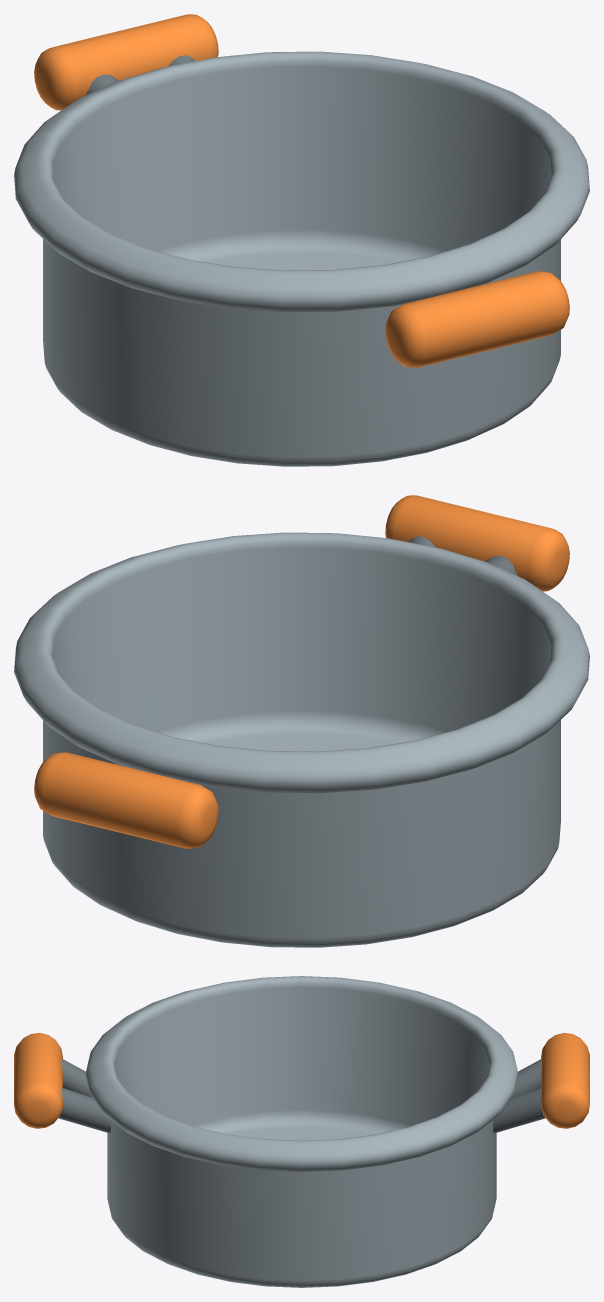
File: SM_Pot.fbx
3 views of the same model, one above another, from view 1: azimuth 30°, elevation 25°; view 2: azimuth 150°, elevation 25°; view 3: azimuth 270°, elevation 25° (orthographic). The views are drawn at different scales.
Visible parts, largest first — view 1: Pot; view 2: Pot; view 3: Pot.
Boxes of the visible parts, left/top/right/bottom form: Pot: left=14, top=14, right=589, bottom=466; Pot: left=14, top=495, right=589, bottom=947; Pot: left=14, top=976, right=589, bottom=1287.
Size of the model in its own units: 149 by 57.47 by 198.
